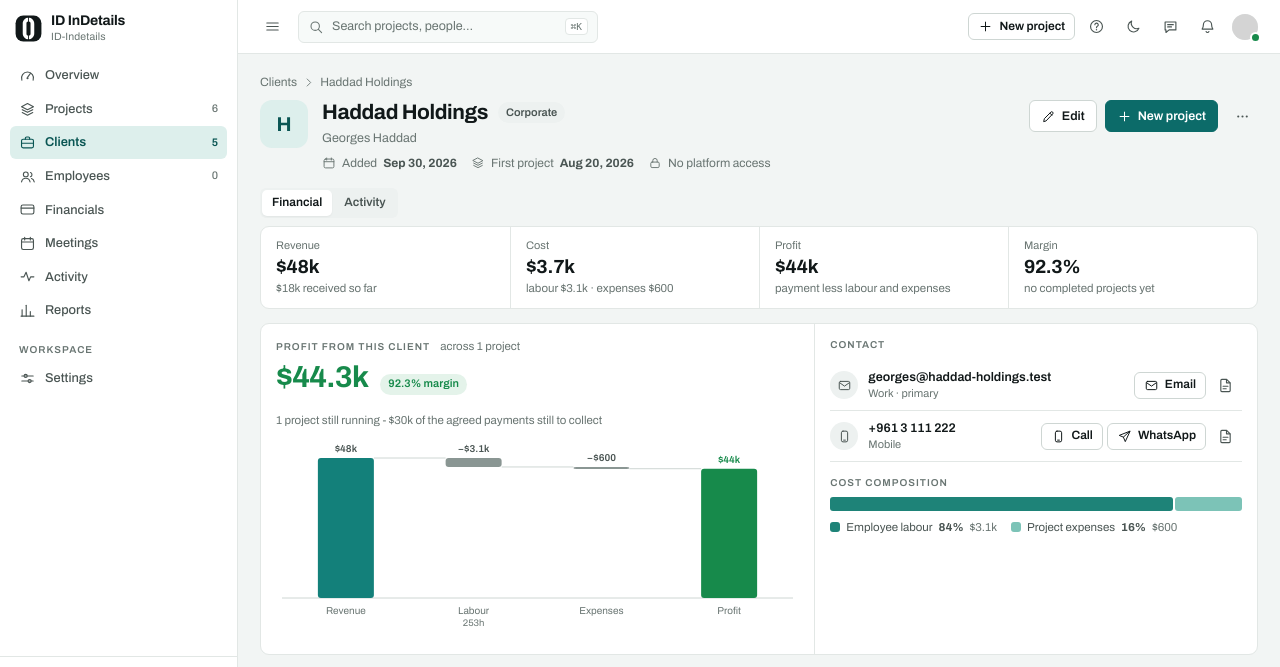
Test: a client › offers archiving instead of deleting a client that has projects
The image size is (1280, 667).
Click the button named "Client actions": (1242, 116) [1226,100,1258,132]
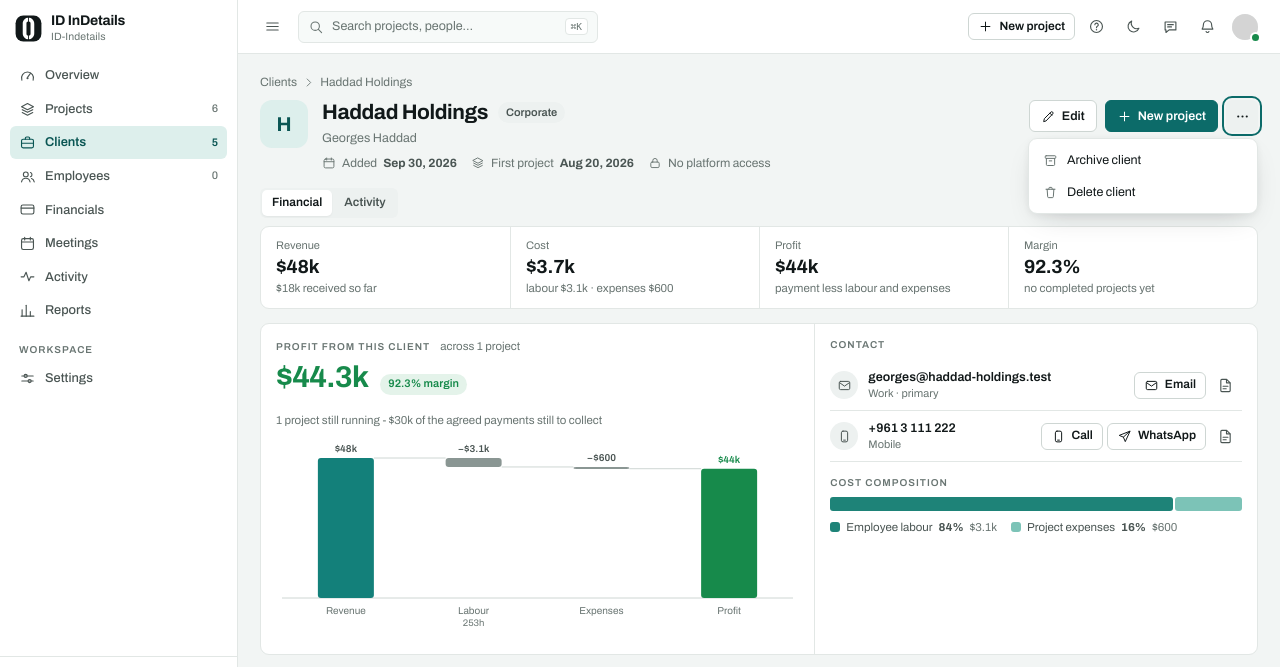
Click the button "Delete client": (1143, 192) [1034,176,1252,208]
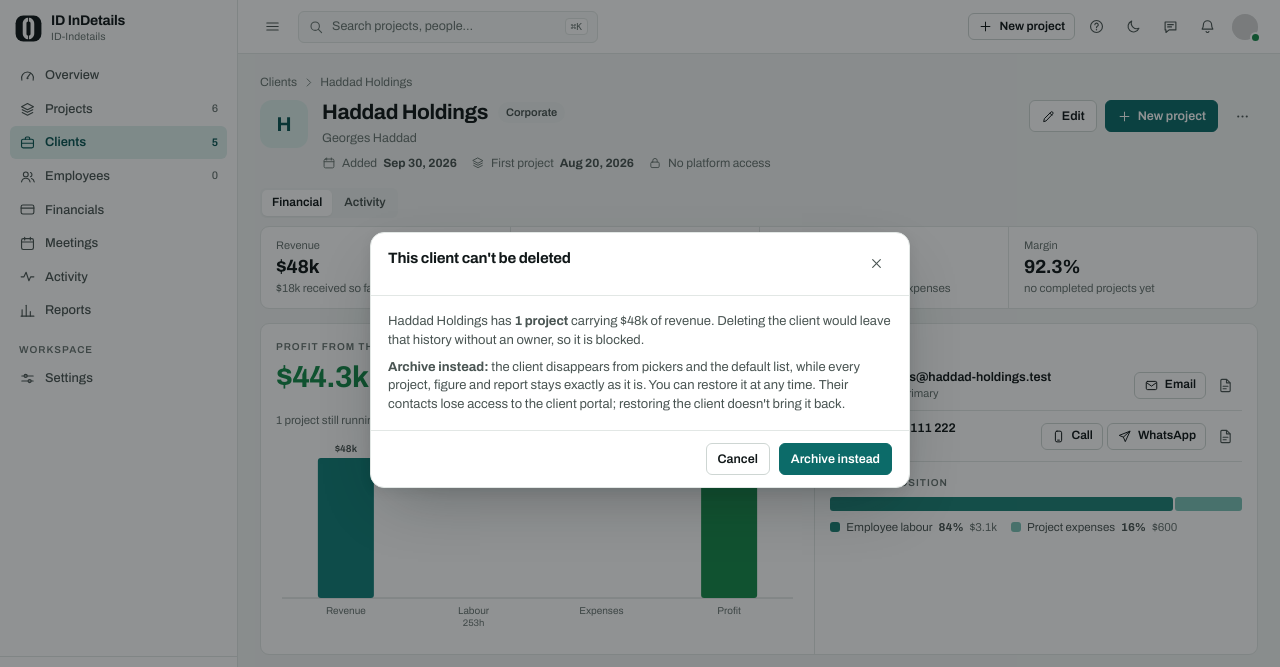
Now the text "This client can't be deleted" is shown, box [388,250,571,266]
Now the button "Archive instead" is shown, box [779,443,892,475]
Now the button "Delete client" is gone
